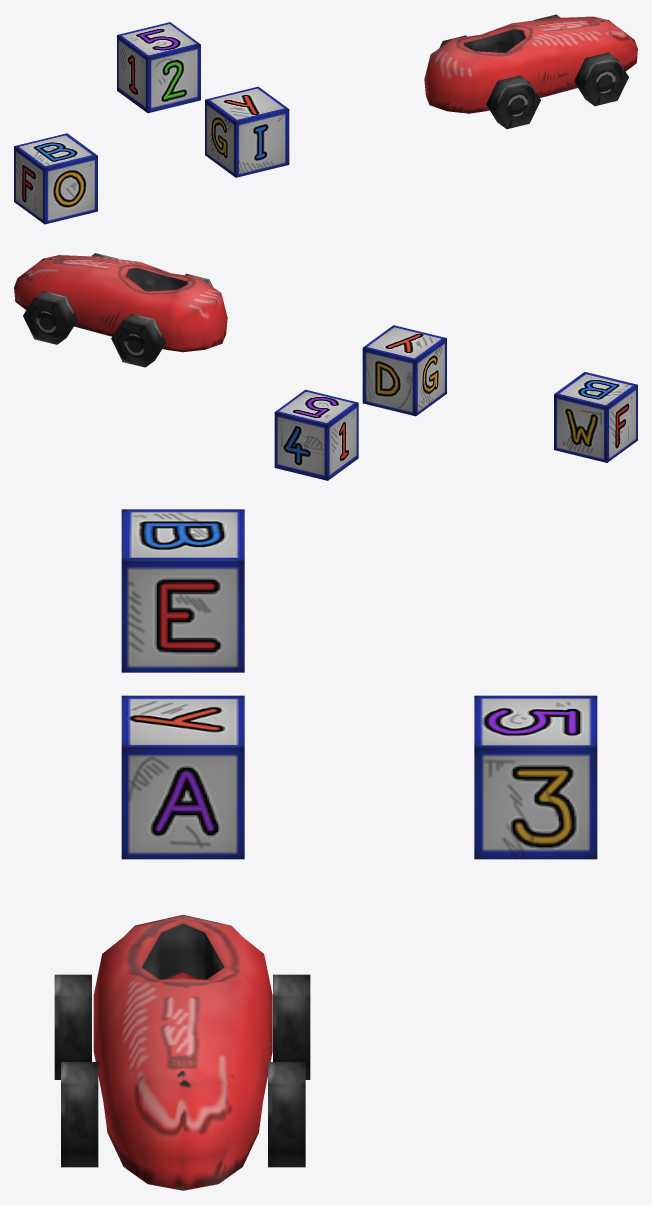
Rendered from toys.fbx.
3 views of the same model, one above another, from view 1: azimuth 30°, elevation 25°; view 2: azimuth 150°, elevation 25°; view 3: azimuth 270°, elevation 25° (orthographic). The views are drawn at different scales.
Visible parts, largest first — view 1: voiturette, cubea, cube1, cubeb; view 2: voiturette, cubea, cube1, cubeb; view 3: voiturette, cubea, cube1, cubeb.
Boxes of the visible parts, x1,y1,x2,y2 form: voiturette: (424,14,637,128); cubea: (205,86,289,177); cube1: (117,22,200,112); cubeb: (14,133,97,224); voiturette: (14,253,227,367); cubea: (362,325,446,416); cube1: (274,389,358,480); cubeb: (554,372,637,462); voiturette: (54,914,310,1190); cubea: (121,695,244,859); cube1: (474,695,597,859); cubeb: (121,509,244,672).
Size of the model in its own units: 108 by 10.88 by 41.82.
